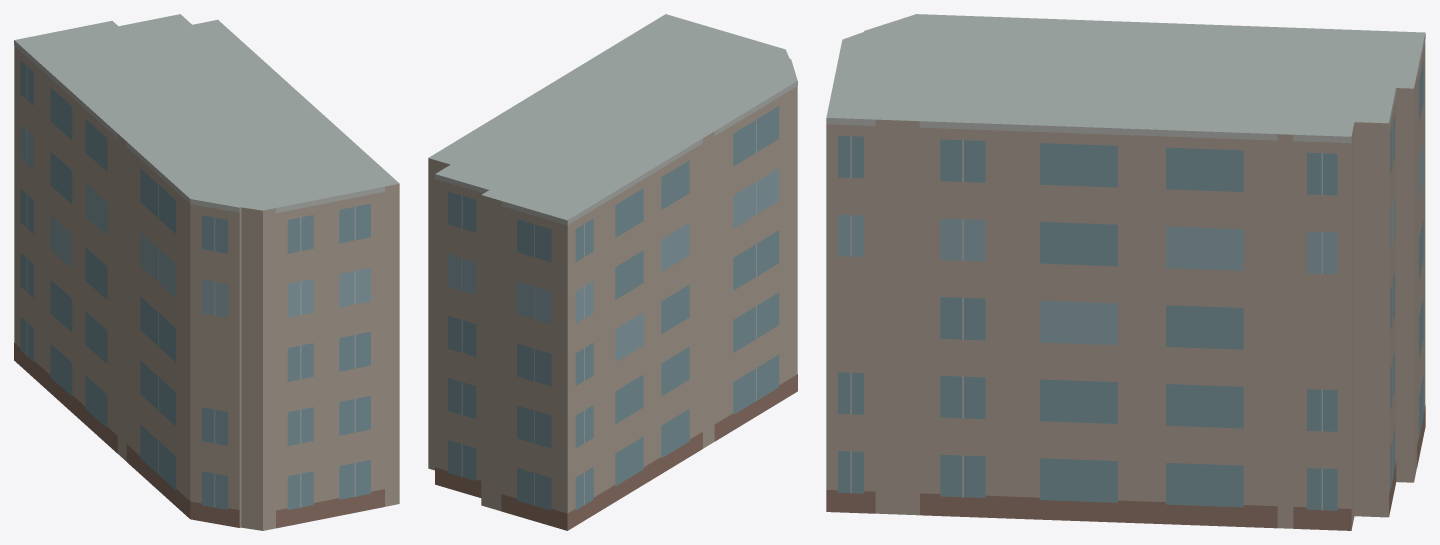
File: survey-upis-32564840.glb
3 views of the same model, side by side, from view 1: azimuth 30°, elevation 25°; view 2: azimuth 150°, elevation 25°; view 3: azimuth 270°, elevation 25° (orthographic). The views are drawn at different scales.
Visible parts, largest first — view 1: survey-upis-32564840.tmp; view 2: survey-upis-32564840.tmp; view 3: survey-upis-32564840.tmp.
Part boxes in pixels (left/top/right/bottom): survey-upis-32564840.tmp: left=14, top=14, right=399, bottom=530; survey-upis-32564840.tmp: left=428, top=14, right=797, bottom=530; survey-upis-32564840.tmp: left=826, top=14, right=1425, bottom=530.
Size of the model in its own units: 10.03 by 15 by 20.67.
